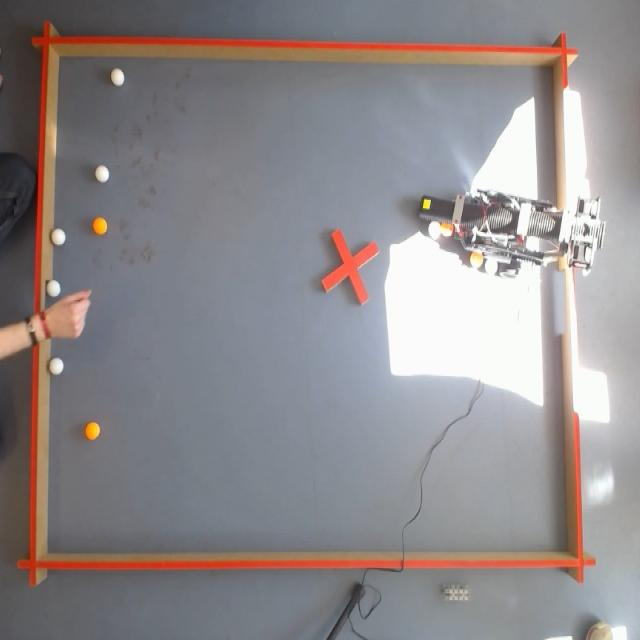orange: (81, 419, 102, 445), (90, 216, 110, 240), (469, 249, 484, 270), (441, 222, 454, 238)
robot: (422, 188, 606, 276)
robot-front: (420, 196, 449, 223)
white: (93, 161, 110, 187), (49, 227, 68, 249), (48, 355, 66, 378), (108, 66, 125, 90), (45, 278, 62, 299), (426, 219, 441, 241), (484, 258, 498, 276)
